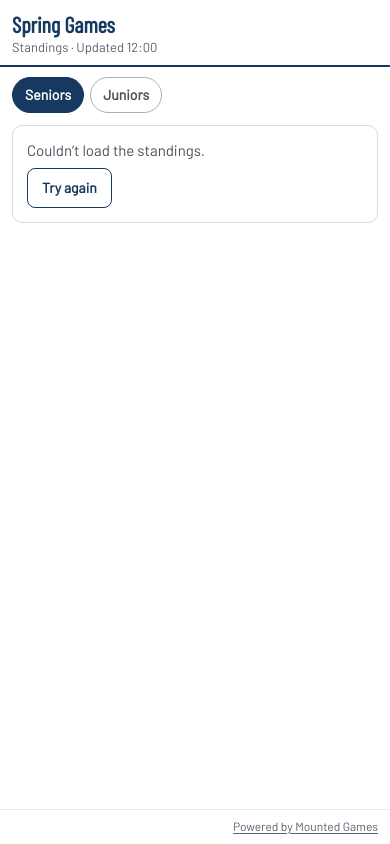
Test: embedded standings › keeps showing results with a notice when a refresh fails, and offers a retry when nothing loaded
The image size is (390, 844).
expect the text "Couldn’t load the standings." is shown: met, box [27,141,205,159]
Click the button "Try again".
click(69, 188)  # box [27,168,112,208]
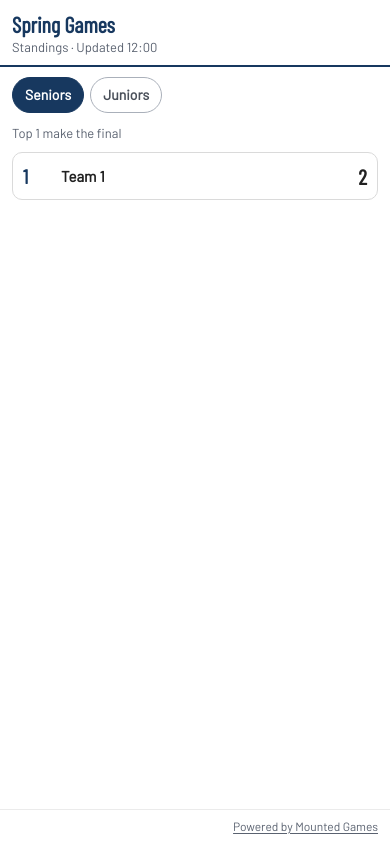
expect the text "Team 1" is shown: met, box [61,167,105,185]
